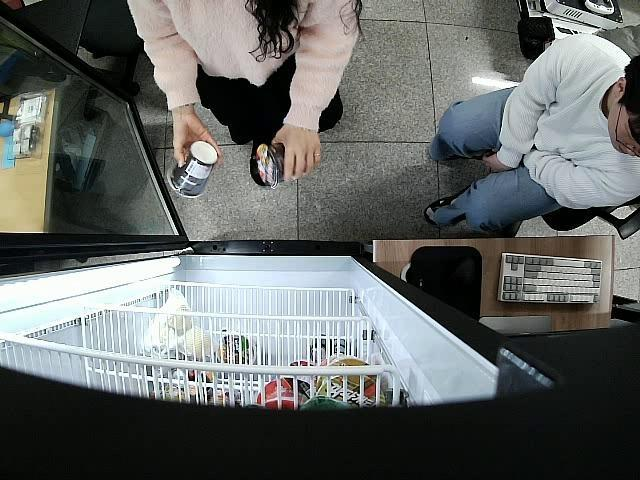08_buldak_S: (168, 142, 217, 198), (256, 144, 285, 190)
